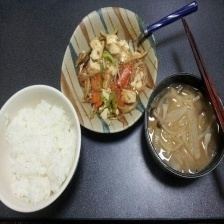rice: (0, 95, 79, 210)
